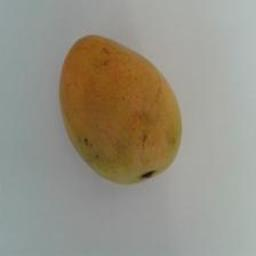Mango Semifresh: (58, 22, 188, 197)
